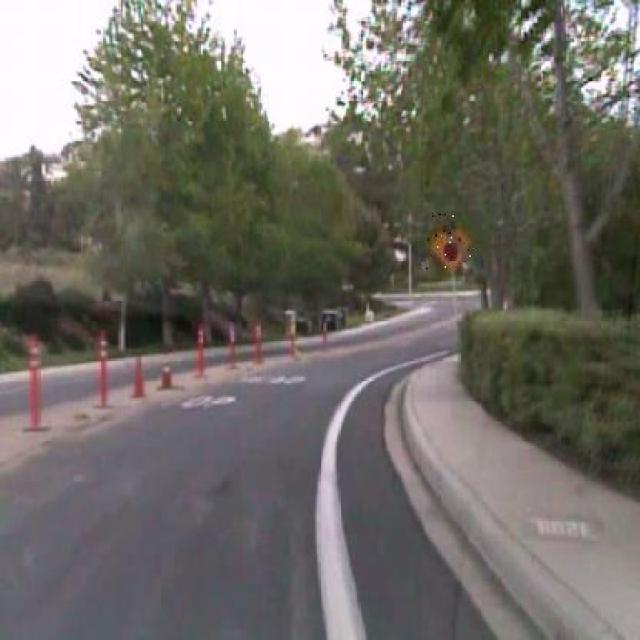stopAhead: (426, 212, 472, 274)
